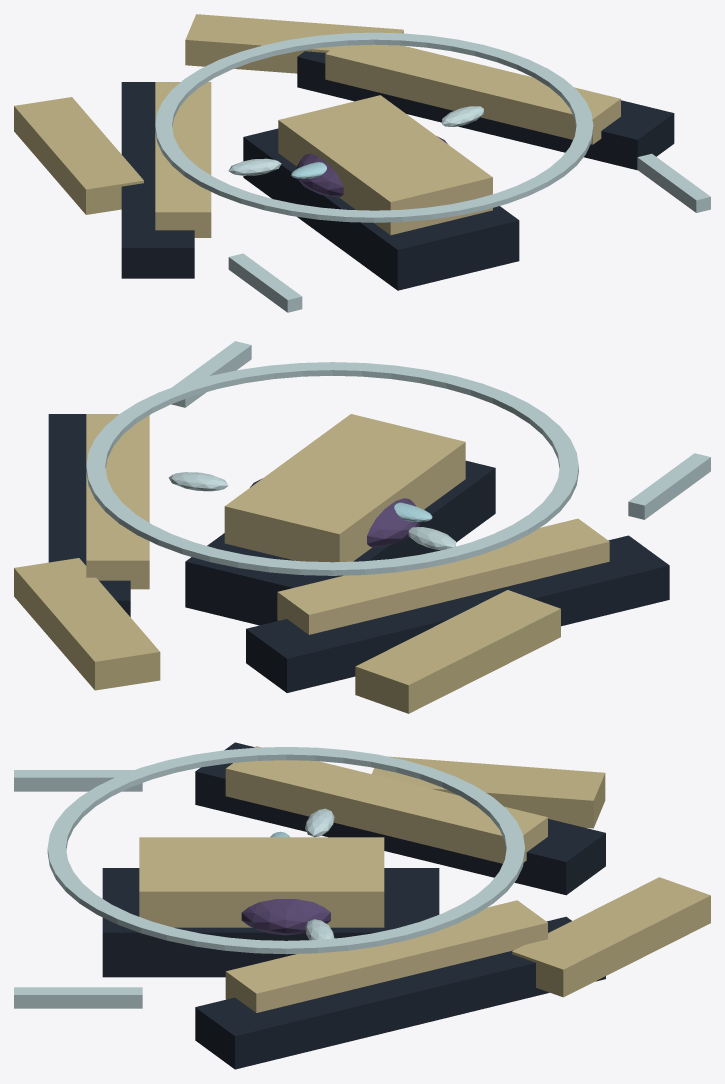
The model's file is helias_aurora_wing.glb.
3 renders of one model, top to bottom at view 1: azimuth 30°, elevation 25°; view 2: azimuth 150°, elevation 25°; view 3: azimuth 270°, elevation 25°, orthographic. The views are drawn at different scales.
Visible parts, largest first — view 1: fuselage, glide_arc, undershell, wing_gold_-1, wing_shadow_1, wing_rear_1, wing_shadow_-1, wing_gold_1, wing_rear_-1, cannon_1, cannon_-1, hollow_core (+2 smaller); view 2: fuselage, glide_arc, wing_shadow_1, wing_gold_1, wing_rear_1, wing_rear_-1, undershell, wing_gold_-1, wing_shadow_-1, cannon_1, cannon_-1, hollow_core (+2 smaller); view 3: fuselage, wing_shadow_-1, glide_arc, wing_gold_1, wing_gold_-1, undershell, wing_rear_-1, wing_shadow_1, wing_rear_1, cannon_-1, hollow_core, cannon_1 (+1 smaller).
Part boxes in pixels (x1,y1,x2,y2): fuselage: [278, 95, 492, 235]; glide_arc: [155, 32, 593, 222]; undershell: [243, 128, 519, 290]; wing_gold_-1: [325, 44, 620, 144]; wing_shadow_1: [121, 82, 194, 278]; wing_rear_1: [14, 97, 143, 214]; wing_shadow_-1: [297, 51, 674, 170]; wing_gold_1: [155, 82, 211, 237]; wing_rear_-1: [185, 14, 403, 73]; cannon_1: [228, 253, 302, 312]; cannon_-1: [637, 153, 710, 212]; hollow_core: [296, 136, 448, 197]; fuselage: [224, 414, 465, 562]; glide_arc: [86, 362, 578, 575]; wing_shadow_1: [246, 535, 669, 692]; wing_gold_1: [277, 518, 609, 634]; wing_rear_1: [355, 590, 560, 713]; wing_rear_-1: [14, 558, 160, 690]; undershell: [185, 460, 495, 625]; wing_gold_-1: [86, 414, 149, 589]; wing_shadow_-1: [48, 414, 130, 616]; cannon_1: [628, 453, 710, 519]; cannon_-1: [171, 341, 251, 407]; hollow_core: [250, 478, 419, 547]; fuselage: [139, 837, 384, 927]; wing_shadow_-1: [195, 916, 605, 1069]; glide_arc: [47, 747, 524, 954]; wing_gold_1: [225, 746, 547, 863]; wing_gold_-1: [225, 900, 547, 1012]; undershell: [102, 868, 439, 977]; wing_rear_-1: [512, 877, 710, 997]; wing_shadow_1: [195, 742, 605, 895]; wing_rear_1: [372, 756, 605, 828]; cannon_-1: [14, 987, 142, 1008]; hollow_core: [241, 899, 330, 935]; cannon_1: [14, 770, 142, 791].
Bounding box in the file's own units: 2.27 × 0.35 × 2.28.
